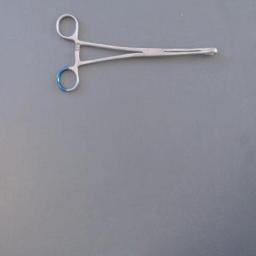Sponge Forceps: (52, 10, 224, 92)
